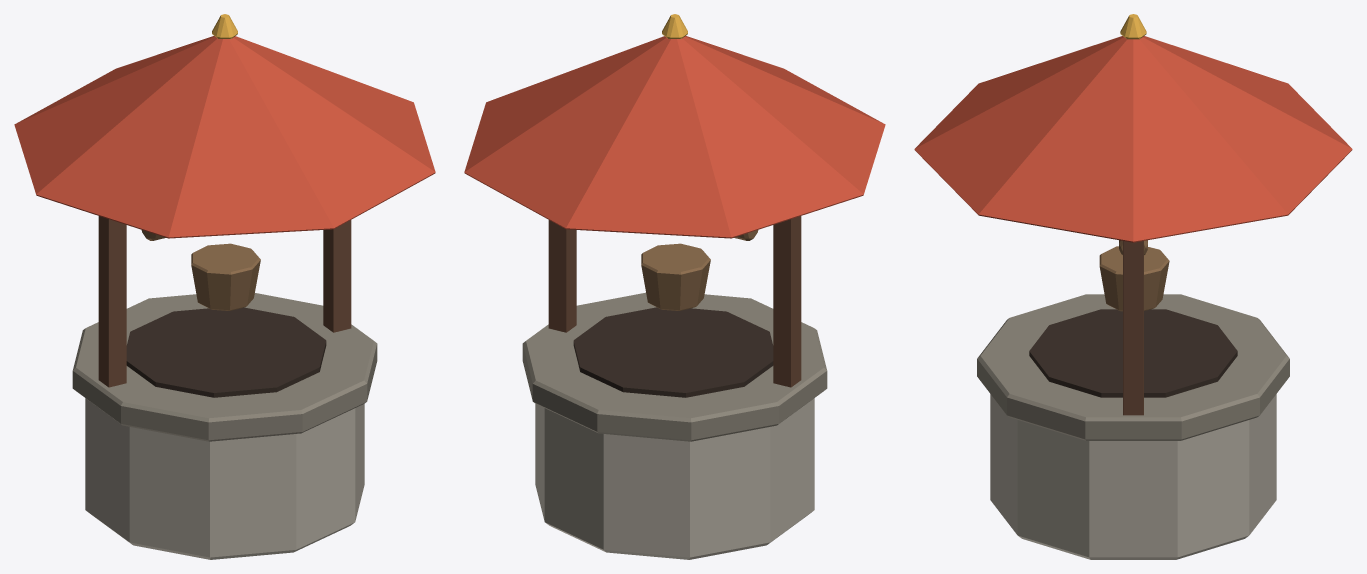
Rendered from well.glb.
3 views of the same model, side by side, from view 1: azimuth 30°, elevation 25°; view 2: azimuth 150°, elevation 25°; view 3: azimuth 270°, elevation 25° (orthographic).
Visible parts, largest first — view 1: w_roof, w_base, w_rim, w_hole, w_leg-0.5, w_bucket, w_leg0.5; view 2: w_roof, w_base, w_rim, w_hole, w_leg-0.5, w_bucket, w_leg0.5; view 3: w_roof, w_base, w_rim, w_hole, w_leg0.5, w_bucket.
Boxes of the visible parts, x1,y1,x2,y2 form: w_roof: [14, 36, 435, 238]; w_base: [85, 398, 364, 559]; w_rim: [72, 293, 377, 441]; w_hole: [126, 307, 326, 397]; w_leg-0.5: [98, 216, 126, 387]; w_bucket: [191, 243, 260, 310]; w_leg0.5: [323, 220, 351, 332]; w_roof: [464, 36, 885, 238]; w_base: [535, 398, 814, 559]; w_rim: [522, 292, 827, 441]; w_hole: [573, 307, 773, 397]; w_leg-0.5: [773, 216, 801, 387]; w_bucket: [641, 243, 710, 310]; w_leg0.5: [548, 220, 576, 332]; w_roof: [914, 36, 1352, 242]; w_base: [990, 394, 1276, 559]; w_rim: [977, 294, 1289, 440]; w_hole: [1029, 309, 1237, 397]; w_leg0.5: [1123, 241, 1143, 415]; w_bucket: [1099, 246, 1169, 311].
Size of the model in its own units: 1.68 by 2.07 by 1.68.
